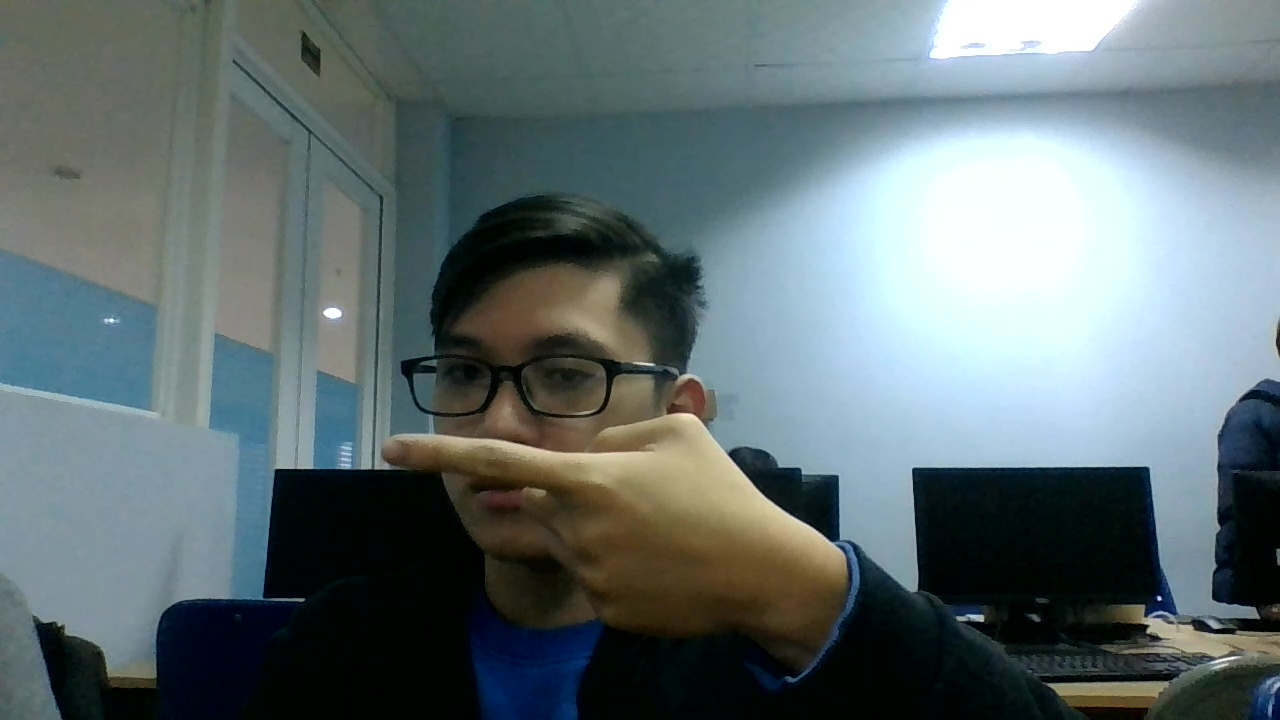right: (381, 412, 762, 651)
